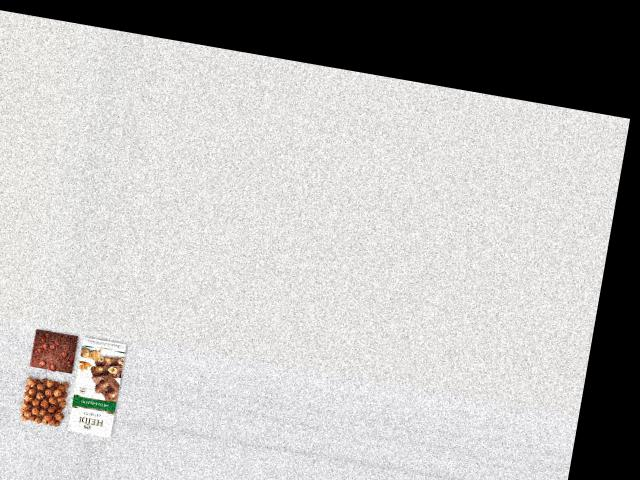chocolate: (24, 325, 80, 374)
